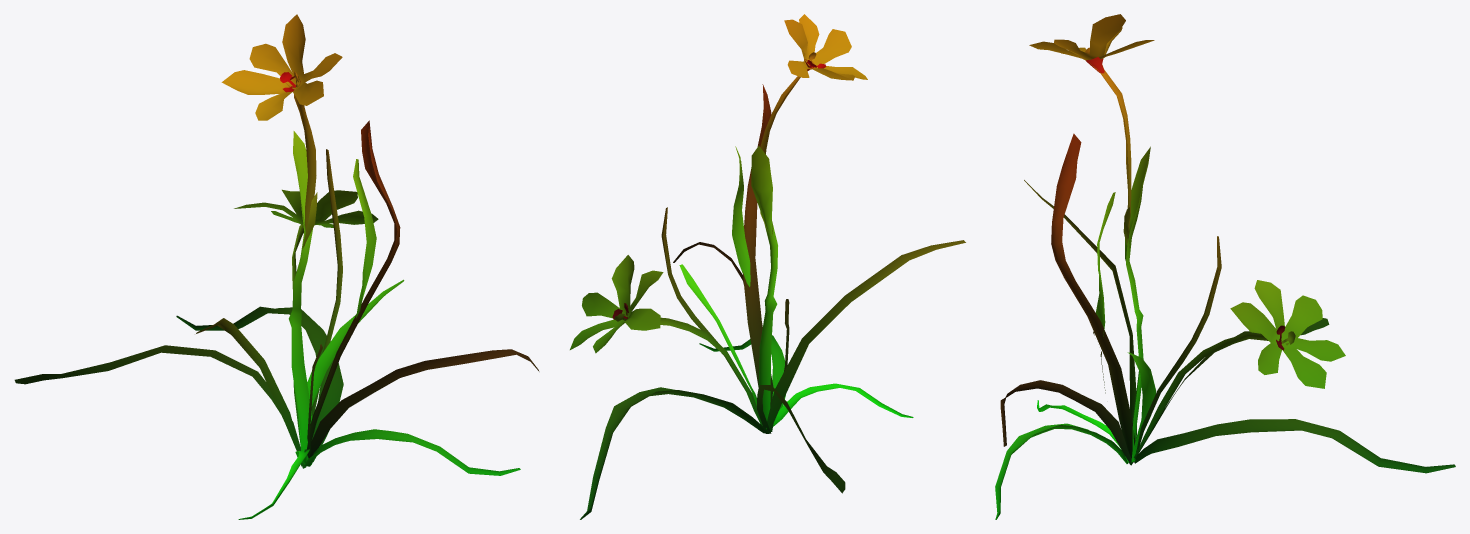
Rendered from SM_OW_Flower_a_LOD0.fbx.
3 renders of one model, left to right at view 1: azimuth 30°, elevation 25°; view 2: azimuth 150°, elevation 25°; view 3: azimuth 270°, elevation 25°, orthographic. The views are drawn at different scales.
Visible parts, largest first — view 1: SM_OW_Flower_a_LOD0; view 2: SM_OW_Flower_a_LOD0; view 3: SM_OW_Flower_a_LOD0.
Boxes of the visible parts, bbox=[...] form: SM_OW_Flower_a_LOD0: bbox=[14, 14, 539, 519]; SM_OW_Flower_a_LOD0: bbox=[570, 14, 965, 519]; SM_OW_Flower_a_LOD0: bbox=[995, 14, 1455, 519].
Bounding box in the file's own units: 0.2174 × 0.2671 × 0.2508.
